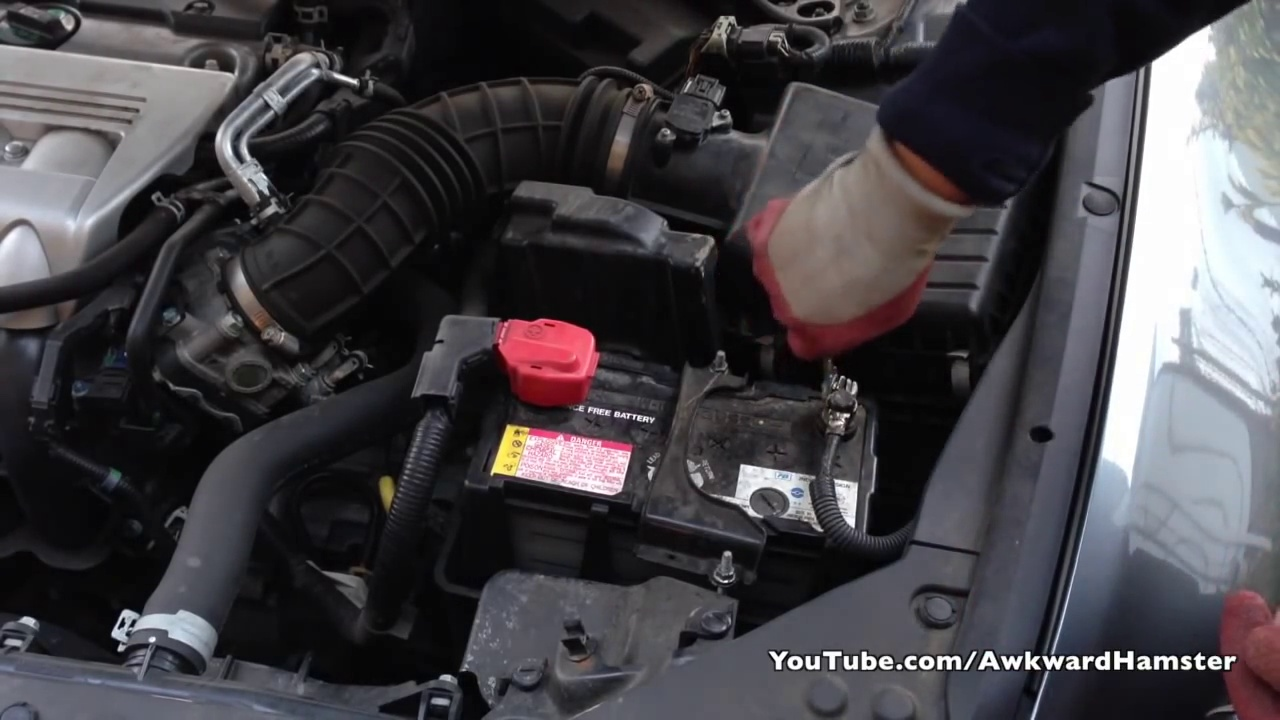battery: (485, 320, 875, 545)
neg_connected: (797, 359, 883, 462)
pos_connected: (435, 290, 617, 413)
